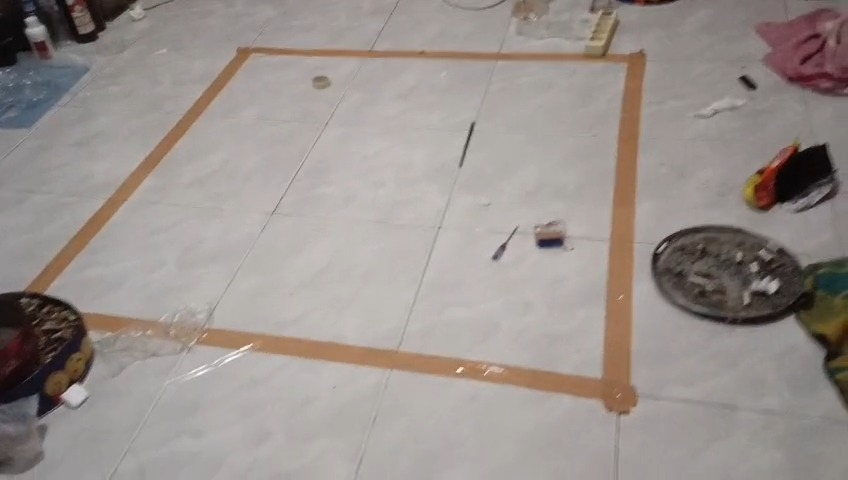floor marking: (28, 47, 645, 412), (84, 313, 155, 330)
